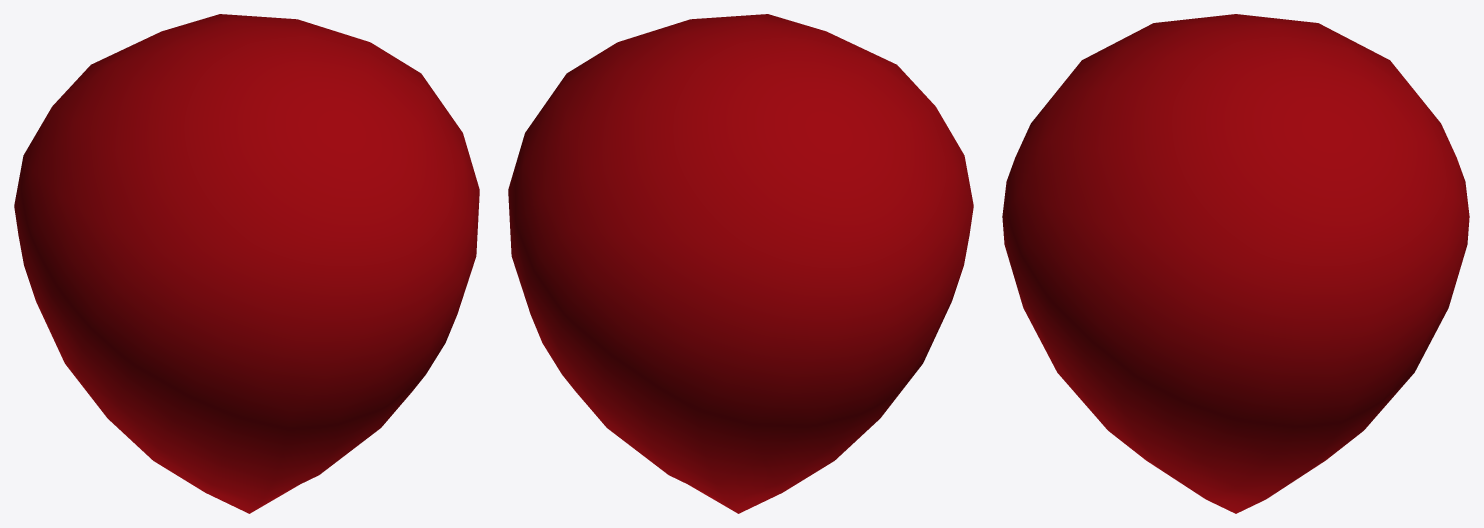
The model's file is Ballon Explode.fbx.
3 renders of one model, left to right at view 1: azimuth 30°, elevation 25°; view 2: azimuth 150°, elevation 25°; view 3: azimuth 270°, elevation 25°, orthographic.
Visible parts, largest first — view 1: Icosphere; view 2: Icosphere; view 3: Icosphere.
Boxes of the visible parts, x1,y1,x2,y2 form: Icosphere: [14, 14, 479, 513]; Icosphere: [508, 14, 973, 513]; Icosphere: [1002, 14, 1469, 513].
Bounding box in the file's own units: 88.24 × 99.37 × 89.3.
